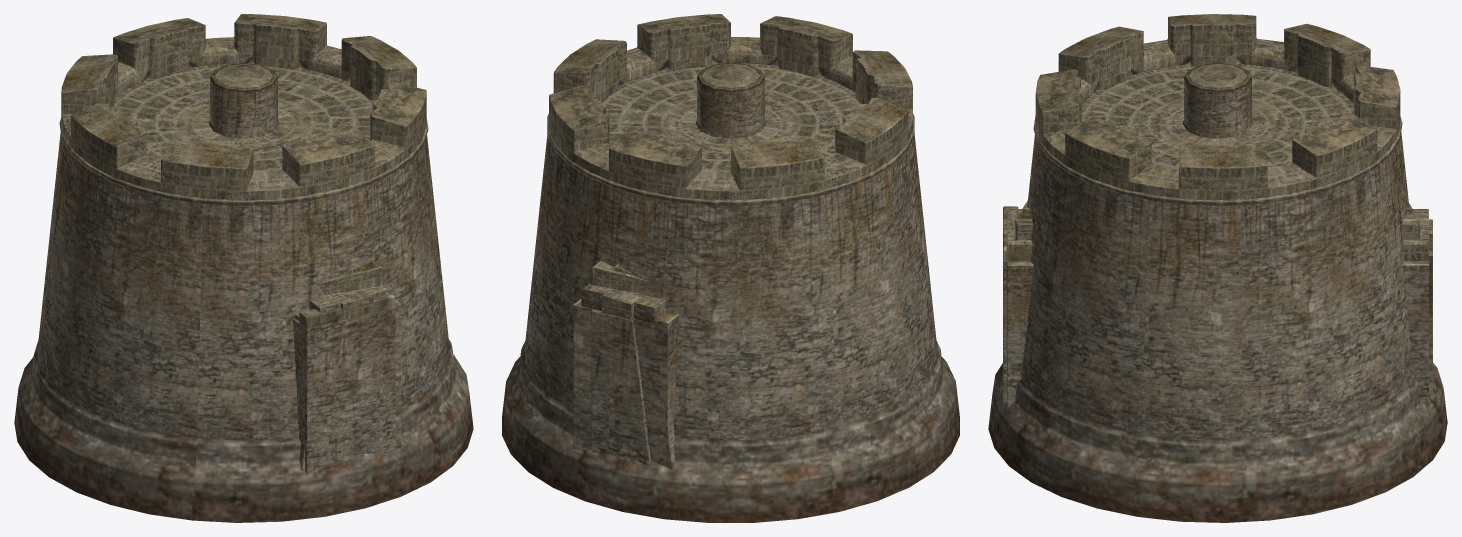
File: scan_props.glb
The picture shows the model from 3 angles, left to right: view 1: azimuth 30°, elevation 25°; view 2: azimuth 150°, elevation 25°; view 3: azimuth 270°, elevation 25°; orthographic projection.
Parts seen in each view (by area): view 1: modular_fort_01_a, modular_fort_01_f, modular_fort_01_e, modular_fort_01_b; view 2: modular_fort_01_a, modular_fort_01_d, modular_fort_01_c, modular_fort_01_b, modular_fort_01_g; view 3: modular_fort_01_a, modular_fort_01_c, modular_fort_01_f, modular_fort_01_d, modular_fort_01_b.
Boxes of the visible parts, <box> form: modular_fort_01_a: <box>14,14,473,522</box>; modular_fort_01_f: <box>293,294,395,474</box>; modular_fort_01_e: <box>326,264,382,464</box>; modular_fort_01_b: <box>299,261,400,470</box>; modular_fort_01_a: <box>502,14,959,522</box>; modular_fort_01_d: <box>591,264,649,465</box>; modular_fort_01_c: <box>573,261,670,467</box>; modular_fort_01_b: <box>574,261,674,470</box>; modular_fort_01_g: <box>589,307,679,433</box>; modular_fort_01_a: <box>988,14,1447,522</box>; modular_fort_01_c: <box>1007,219,1428,408</box>; modular_fort_01_f: <box>1003,206,1031,405</box>; modular_fort_01_d: <box>1003,207,1432,396</box>; modular_fort_01_b: <box>1007,200,1428,264</box>.
Size of the model in its own units: 15.84 by 14.24 by 15.84.
Materials: 116 (115 with a texture image).
